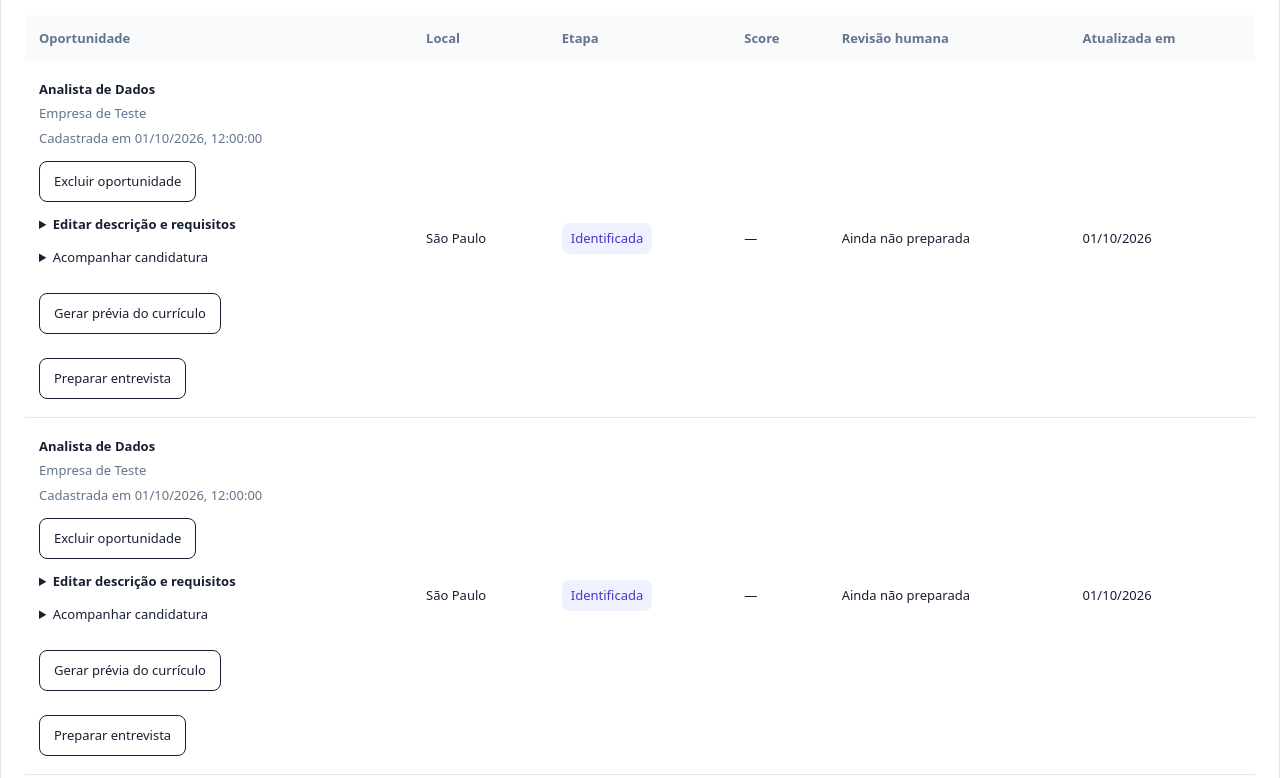
Test: Exclusão na lista › remove somente a cópia escolhida entre duas vagas iguais
This screenshot has width=1280, height=778.
(page scrolled)
Click the 2nd button "Excluir oportunidade" at (118, 538), box [39,518,196,559]
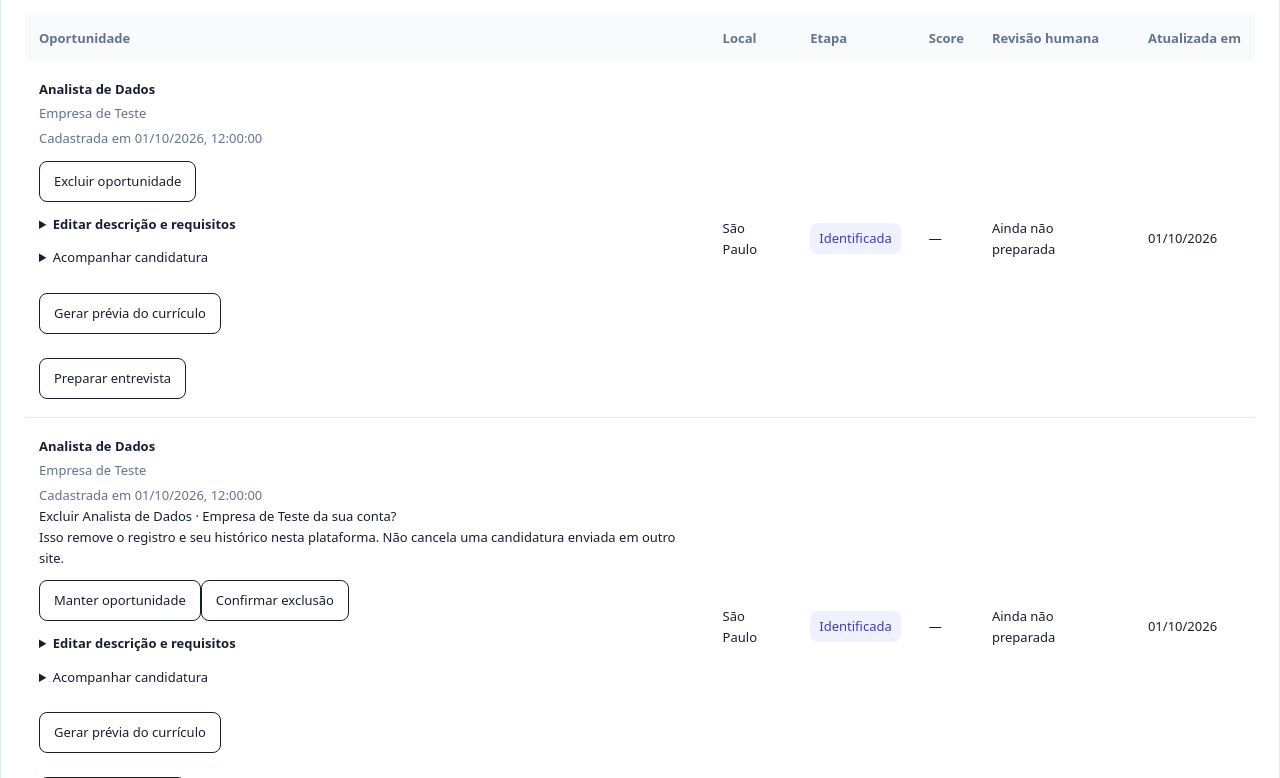
Click the button "Confirmar exclusão" at (275, 601), box [201,580,349,621]
(page scrolled)
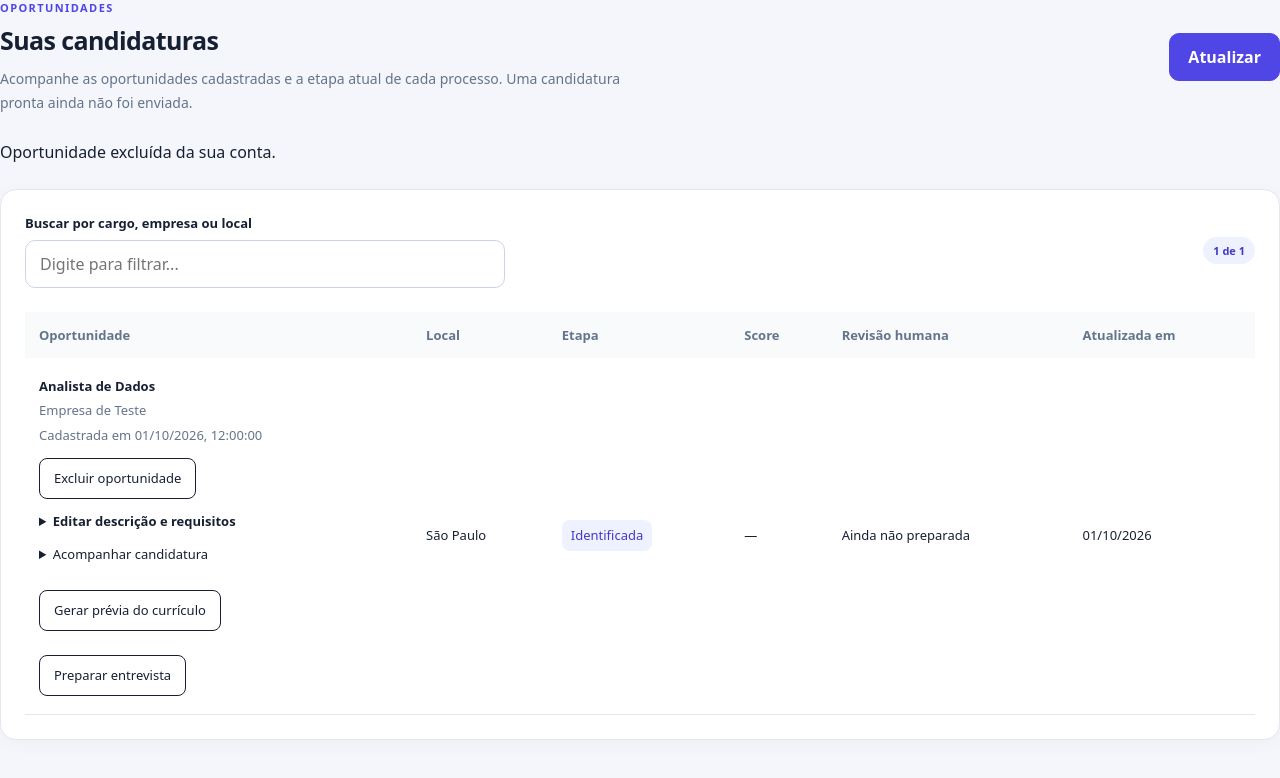
Expected: the text "Oportunidade excluída da sua conta." is shown, [0,141,276,163]
Expected: the text "Analista de Dados" is shown once, [39,377,155,395]
Expected: the number of rows is 2, [25,312,1255,358]; [25,358,1255,714]
